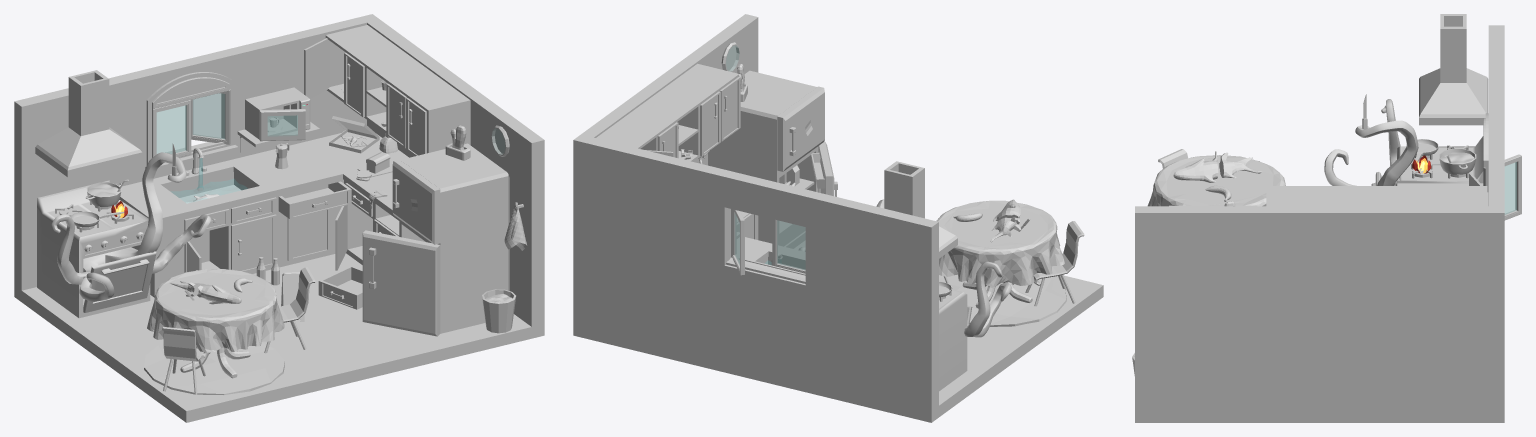
The model's file is Kitchen.fbx.
The picture shows the model from 3 angles, left to right: view 1: azimuth 30°, elevation 25°; view 2: azimuth 150°, elevation 25°; view 3: azimuth 270°, elevation 25°; orthographic projection. The views are drawn at different scales.
Parts seen in each view (by area): view 1: Window, Cylinder.003, Plane.002, Plane.001, Plane.003, Cube.013, Plane.000, Cube.011, Circle, Cube.015, Cylinder.002, Cube.000 (+6 smaller); view 2: Window, Plane.001, Plane.002, Cube.013, Plane.000, Plane.003, Circle, Cube.011, Cylinder.003, Cylinder.002, Plane.005_cell.001; view 3: Window, Plane.003, Cube.011, Plane.002, Cube.013, Plane.000, Plane.005_cell.001.
Boxes of the visible parts, x1,y1,x2,y2 form: Window: (14,14,544,326); Cylinder.003: (119,133,408,309); Plane.002: (14,253,544,422); Plane.001: (362,143,509,336); Plane.003: (37,143,211,318); Cube.013: (304,25,470,155); Plane.000: (147,269,284,378); Cube.011: (35,70,142,177); Circle: (144,342,284,394); Cube.015: (237,87,319,152); Cylinder.002: (162,327,205,394); Cube.000: (482,289,516,333); Window: (573,14,938,410); Plane.001: (708,70,837,251); Plane.002: (573,240,1103,422); Cube.013: (596,63,740,161); Plane.000: (936,200,1064,308); Plane.003: (876,199,1011,391); Circle: (939,274,1066,326); Cube.011: (884,161,957,258); Cylinder.003: (737,211,805,268); Cylinder.002: (1025,221,1084,306); Plane.005_cell.001: (990,199,1021,242); Window: (1135,25,1521,410); Plane.003: (1324,94,1483,185); Cube.011: (1419,14,1488,125); Plane.002: (1135,410,1504,422); Cube.013: (1266,173,1487,206); Plane.000: (1147,151,1285,206); Plane.005_cell.001: (1173,152,1262,182).
Bounding box in the file's own units: 575 × 329 × 483.
